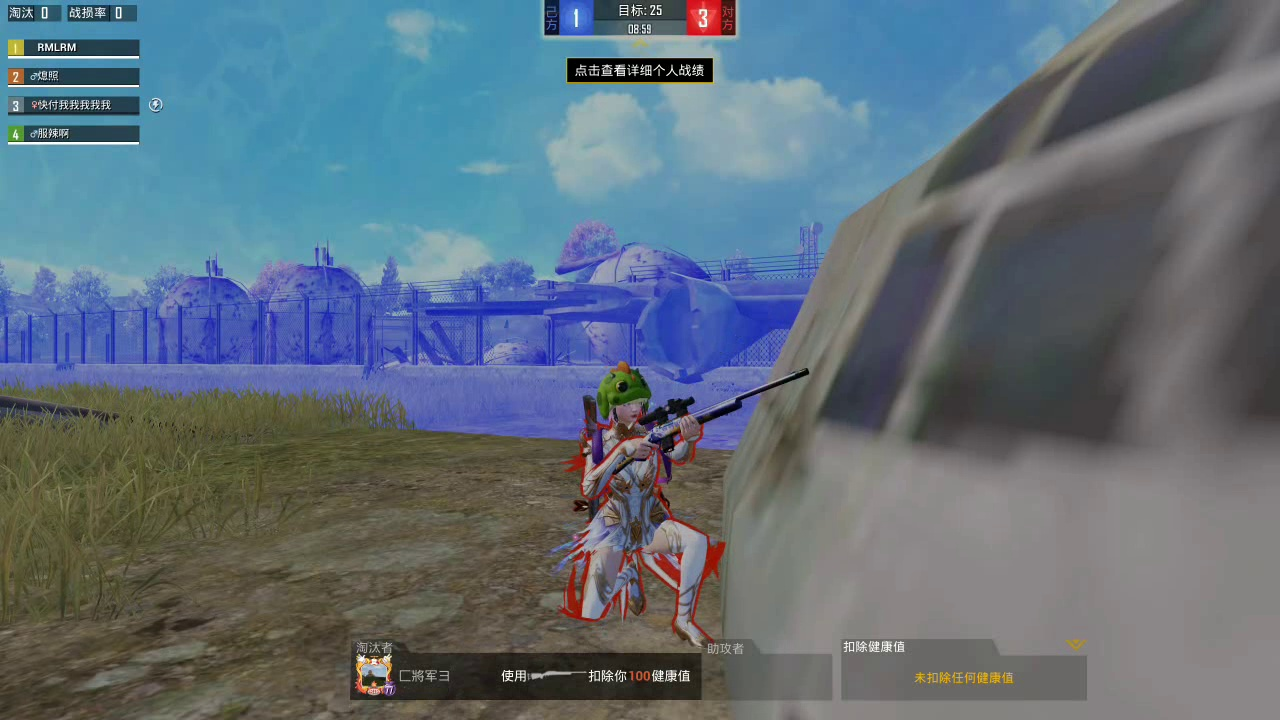enemy: (579, 365, 712, 629)
